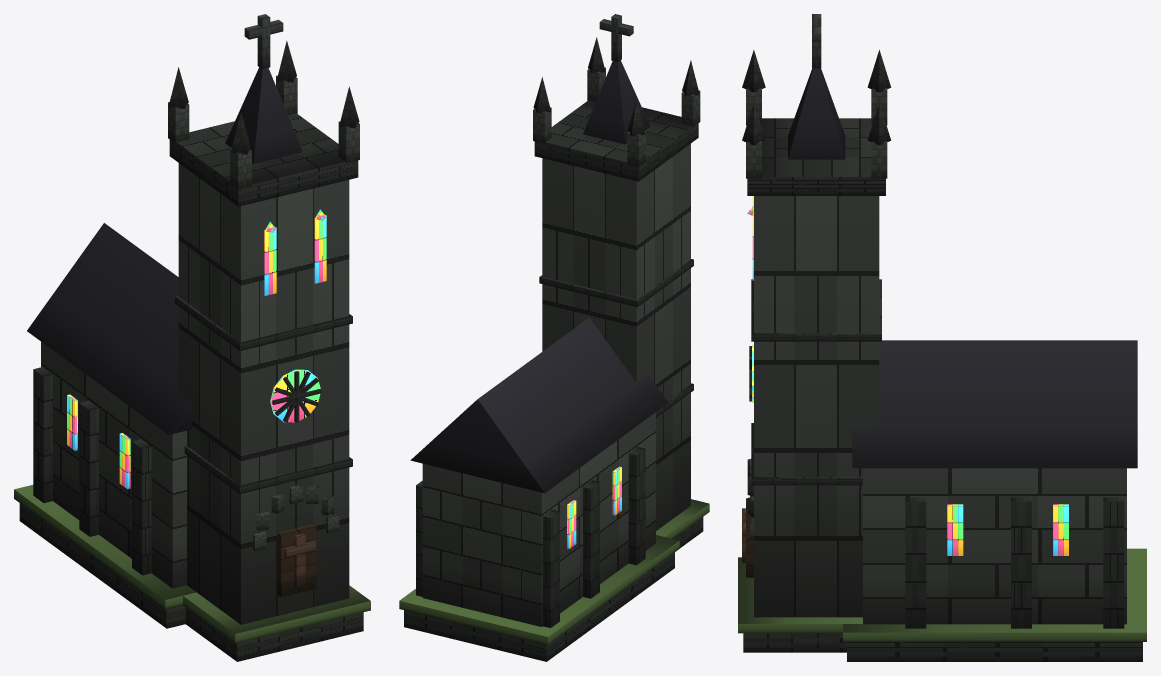
The model's file is chapel.glb.
3 renders of one model, left to right at view 1: azimuth 30°, elevation 25°; view 2: azimuth 150°, elevation 25°; view 3: azimuth 270°, elevation 25°, orthographic. The views are drawn at different scales.
Parts seen in each view (by area): view 1: chapel; view 2: chapel; view 3: chapel.
Part boxes in pixels (left/top/right/bottom): chapel: left=14, top=14, right=370, bottom=661; chapel: left=399, top=14, right=709, bottom=661; chapel: left=738, top=14, right=1146, bottom=661.
Size of the model in its own units: 1.5 by 5.06 by 3.09.
Materials: 1 (1 with a texture image).
